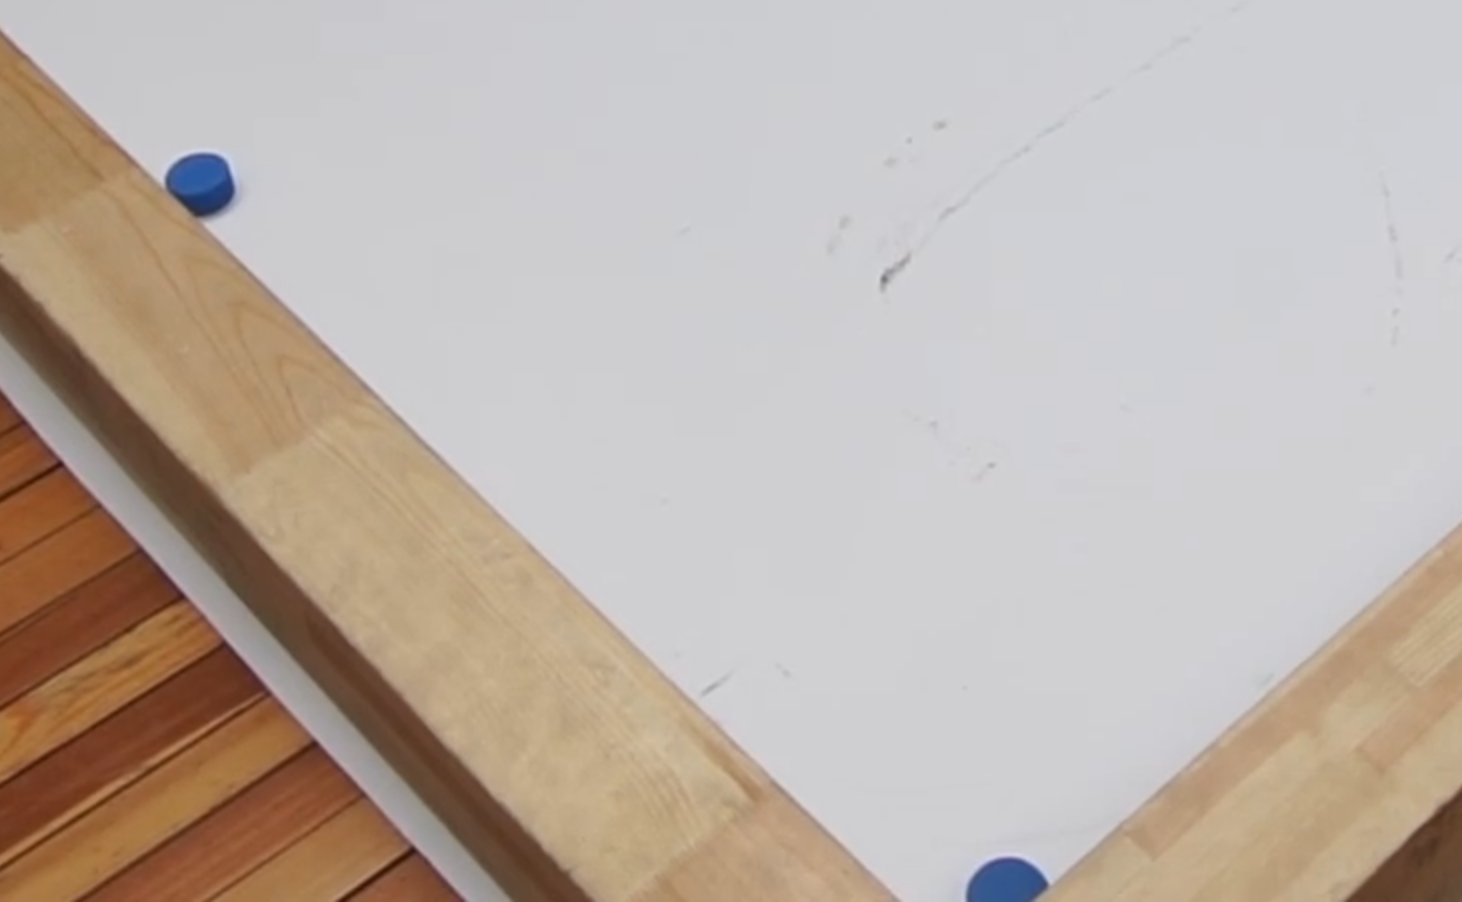blue_puck: (168, 155, 233, 211)
